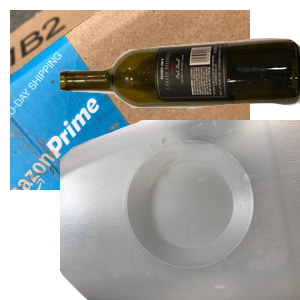cardboard: (10, 10, 250, 190)
glass: (60, 36, 300, 147)
plastic: (60, 120, 300, 300)
trash: (75, 156, 244, 300)
